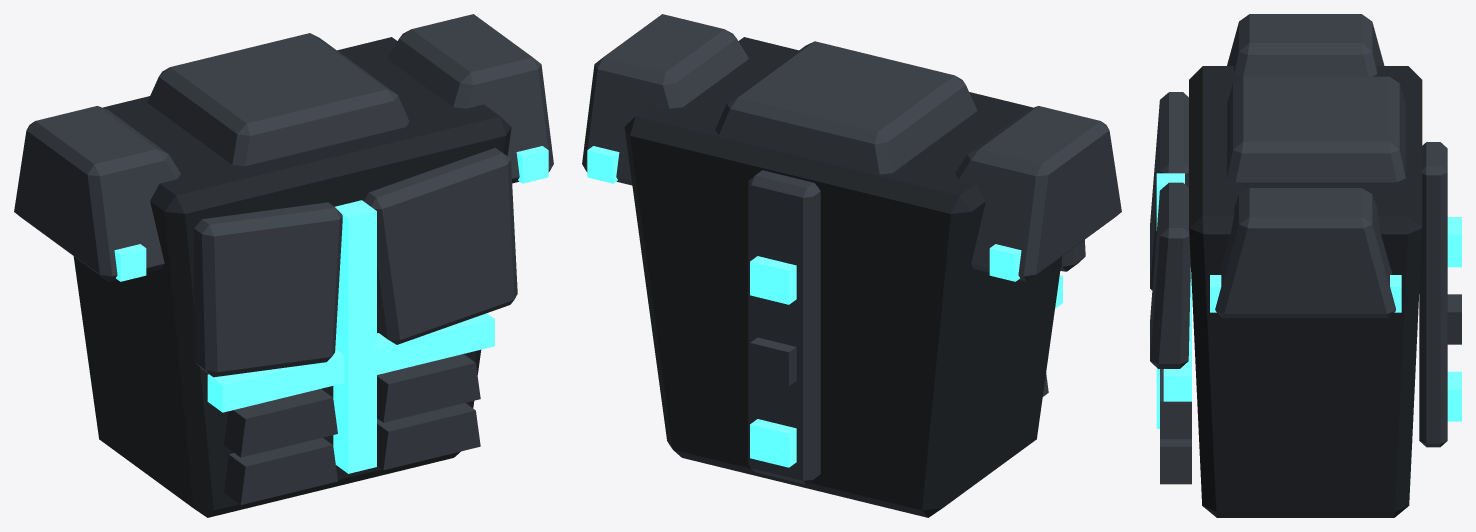
File: item_linked_plating.glb
3 renders of one model, left to right at view 1: azimuth 30°, elevation 25°; view 2: azimuth 150°, elevation 25°; view 3: azimuth 270°, elevation 25°, orthographic. The views are drawn at different scales.
Visible parts, largest first — view 1: linked_plating; view 2: linked_plating; view 3: linked_plating.
Part boxes in pixels (x1=…): linked_plating: x1=14, y1=14, x2=553, y2=517; linked_plating: x1=582, y1=14, x2=1121, y2=517; linked_plating: x1=1150, y1=14, x2=1461, y2=517.
Size of the model in its own units: 0.7 by 0.547 by 0.4391.
